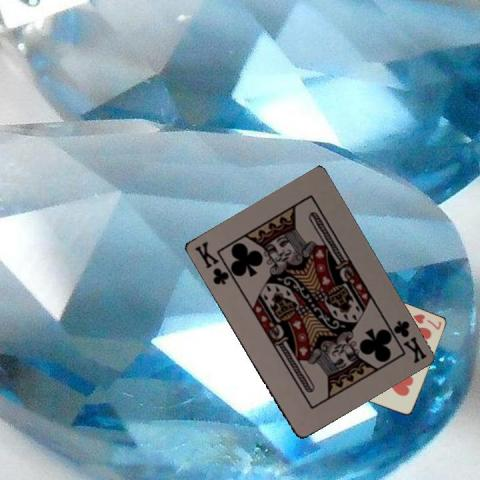7h: (409, 312, 443, 332)
Kc: (191, 238, 230, 287), (390, 316, 428, 364)
